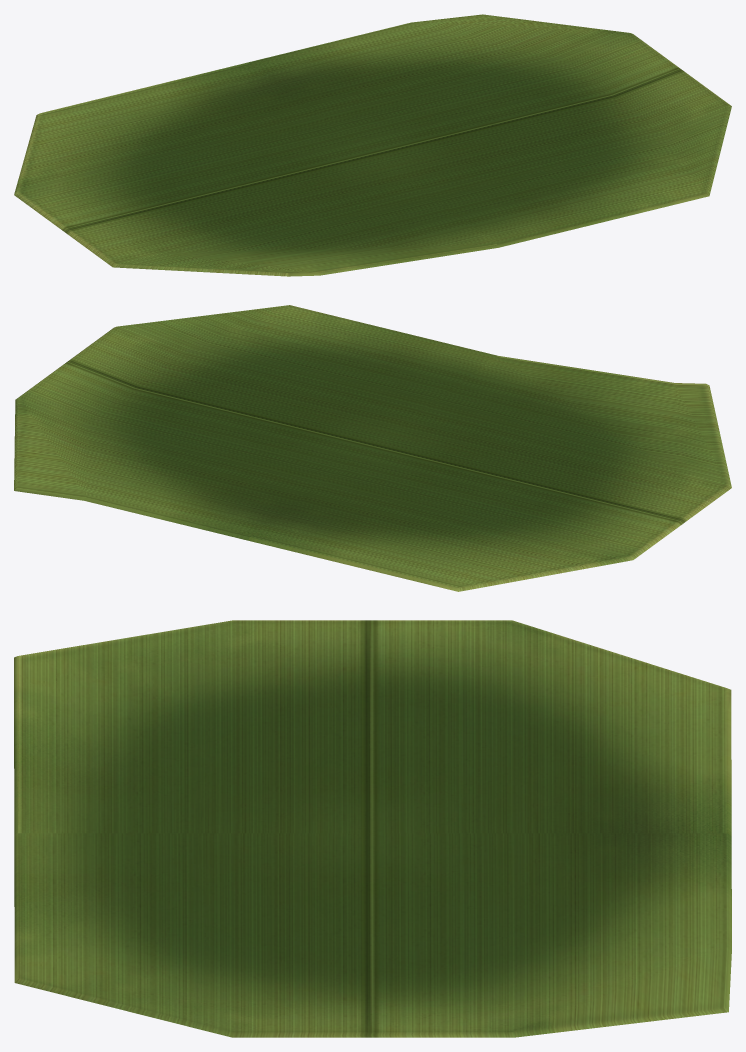
Rendered from leaf.fbx.
3 renders of one model, top to bottom at view 1: azimuth 30°, elevation 25°; view 2: azimuth 150°, elevation 25°; view 3: azimuth 270°, elevation 25°, orthographic. The views are drawn at different scales.
Parts seen in each view (by area): view 1: leaf; view 2: leaf; view 3: leaf.
Boxes of the visible parts, box(x1,y1,x2,y2) form: leaf: box(14, 14, 731, 276); leaf: box(14, 305, 731, 591); leaf: box(14, 620, 731, 1037).
Size of the model in its own units: 13.94 by 0.7139 by 9.82.
